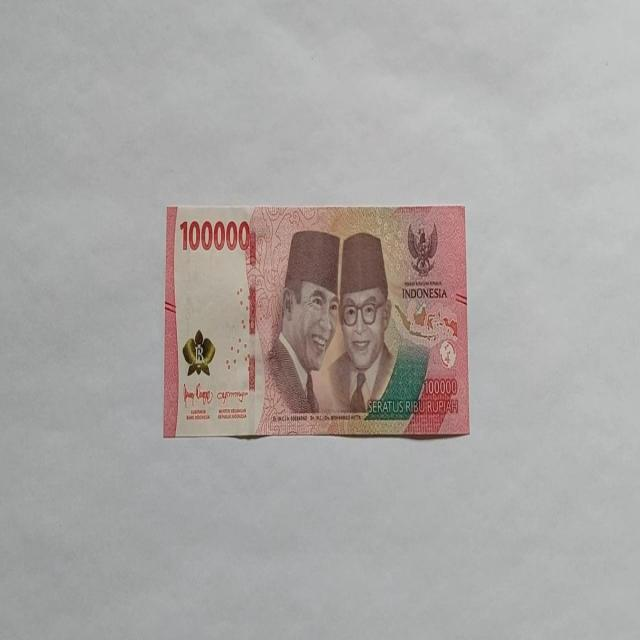Kertas: (163, 203, 470, 440), (179, 217, 251, 253)
